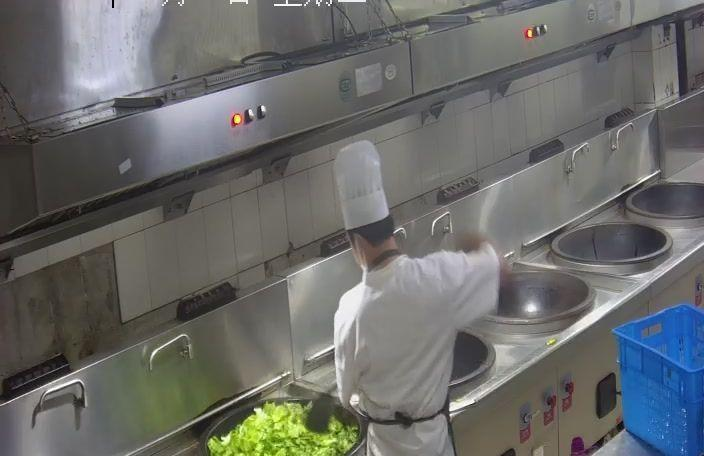mask: (344, 228, 374, 269)
